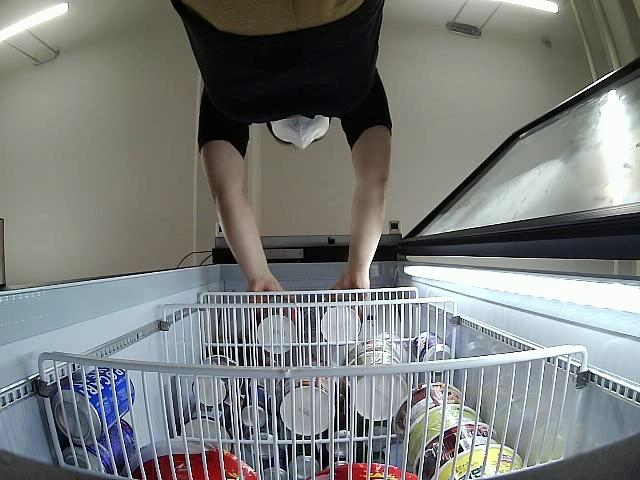00_hand: (329, 271, 371, 322), (250, 279, 300, 304)
